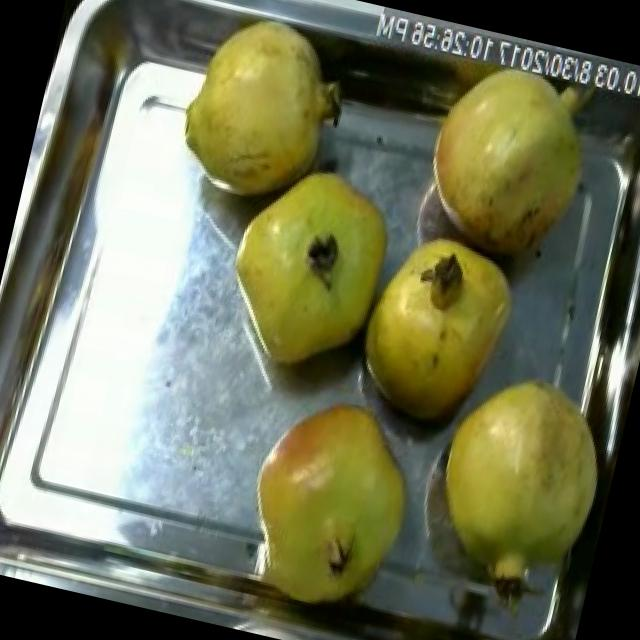fruit: (394, 343, 632, 634), (197, 130, 422, 394), (223, 368, 448, 618), (398, 36, 616, 281), (150, 0, 370, 231), (332, 211, 542, 450)
